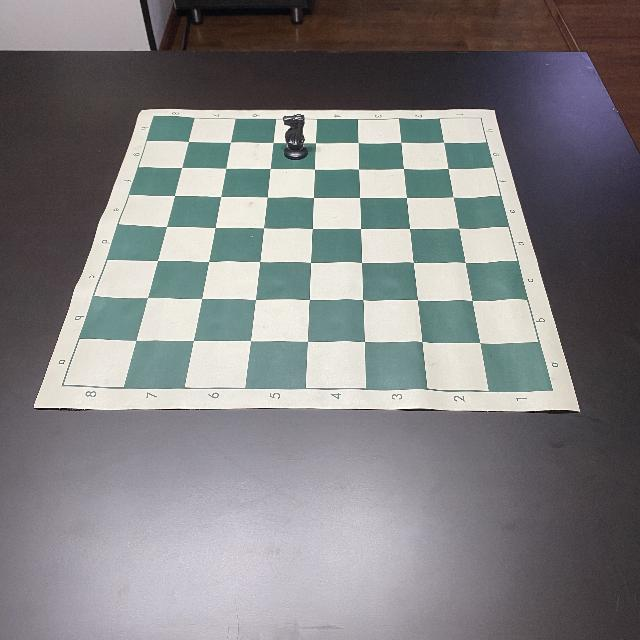black-knight: (282, 114, 308, 160)
board: (33, 108, 580, 412)
